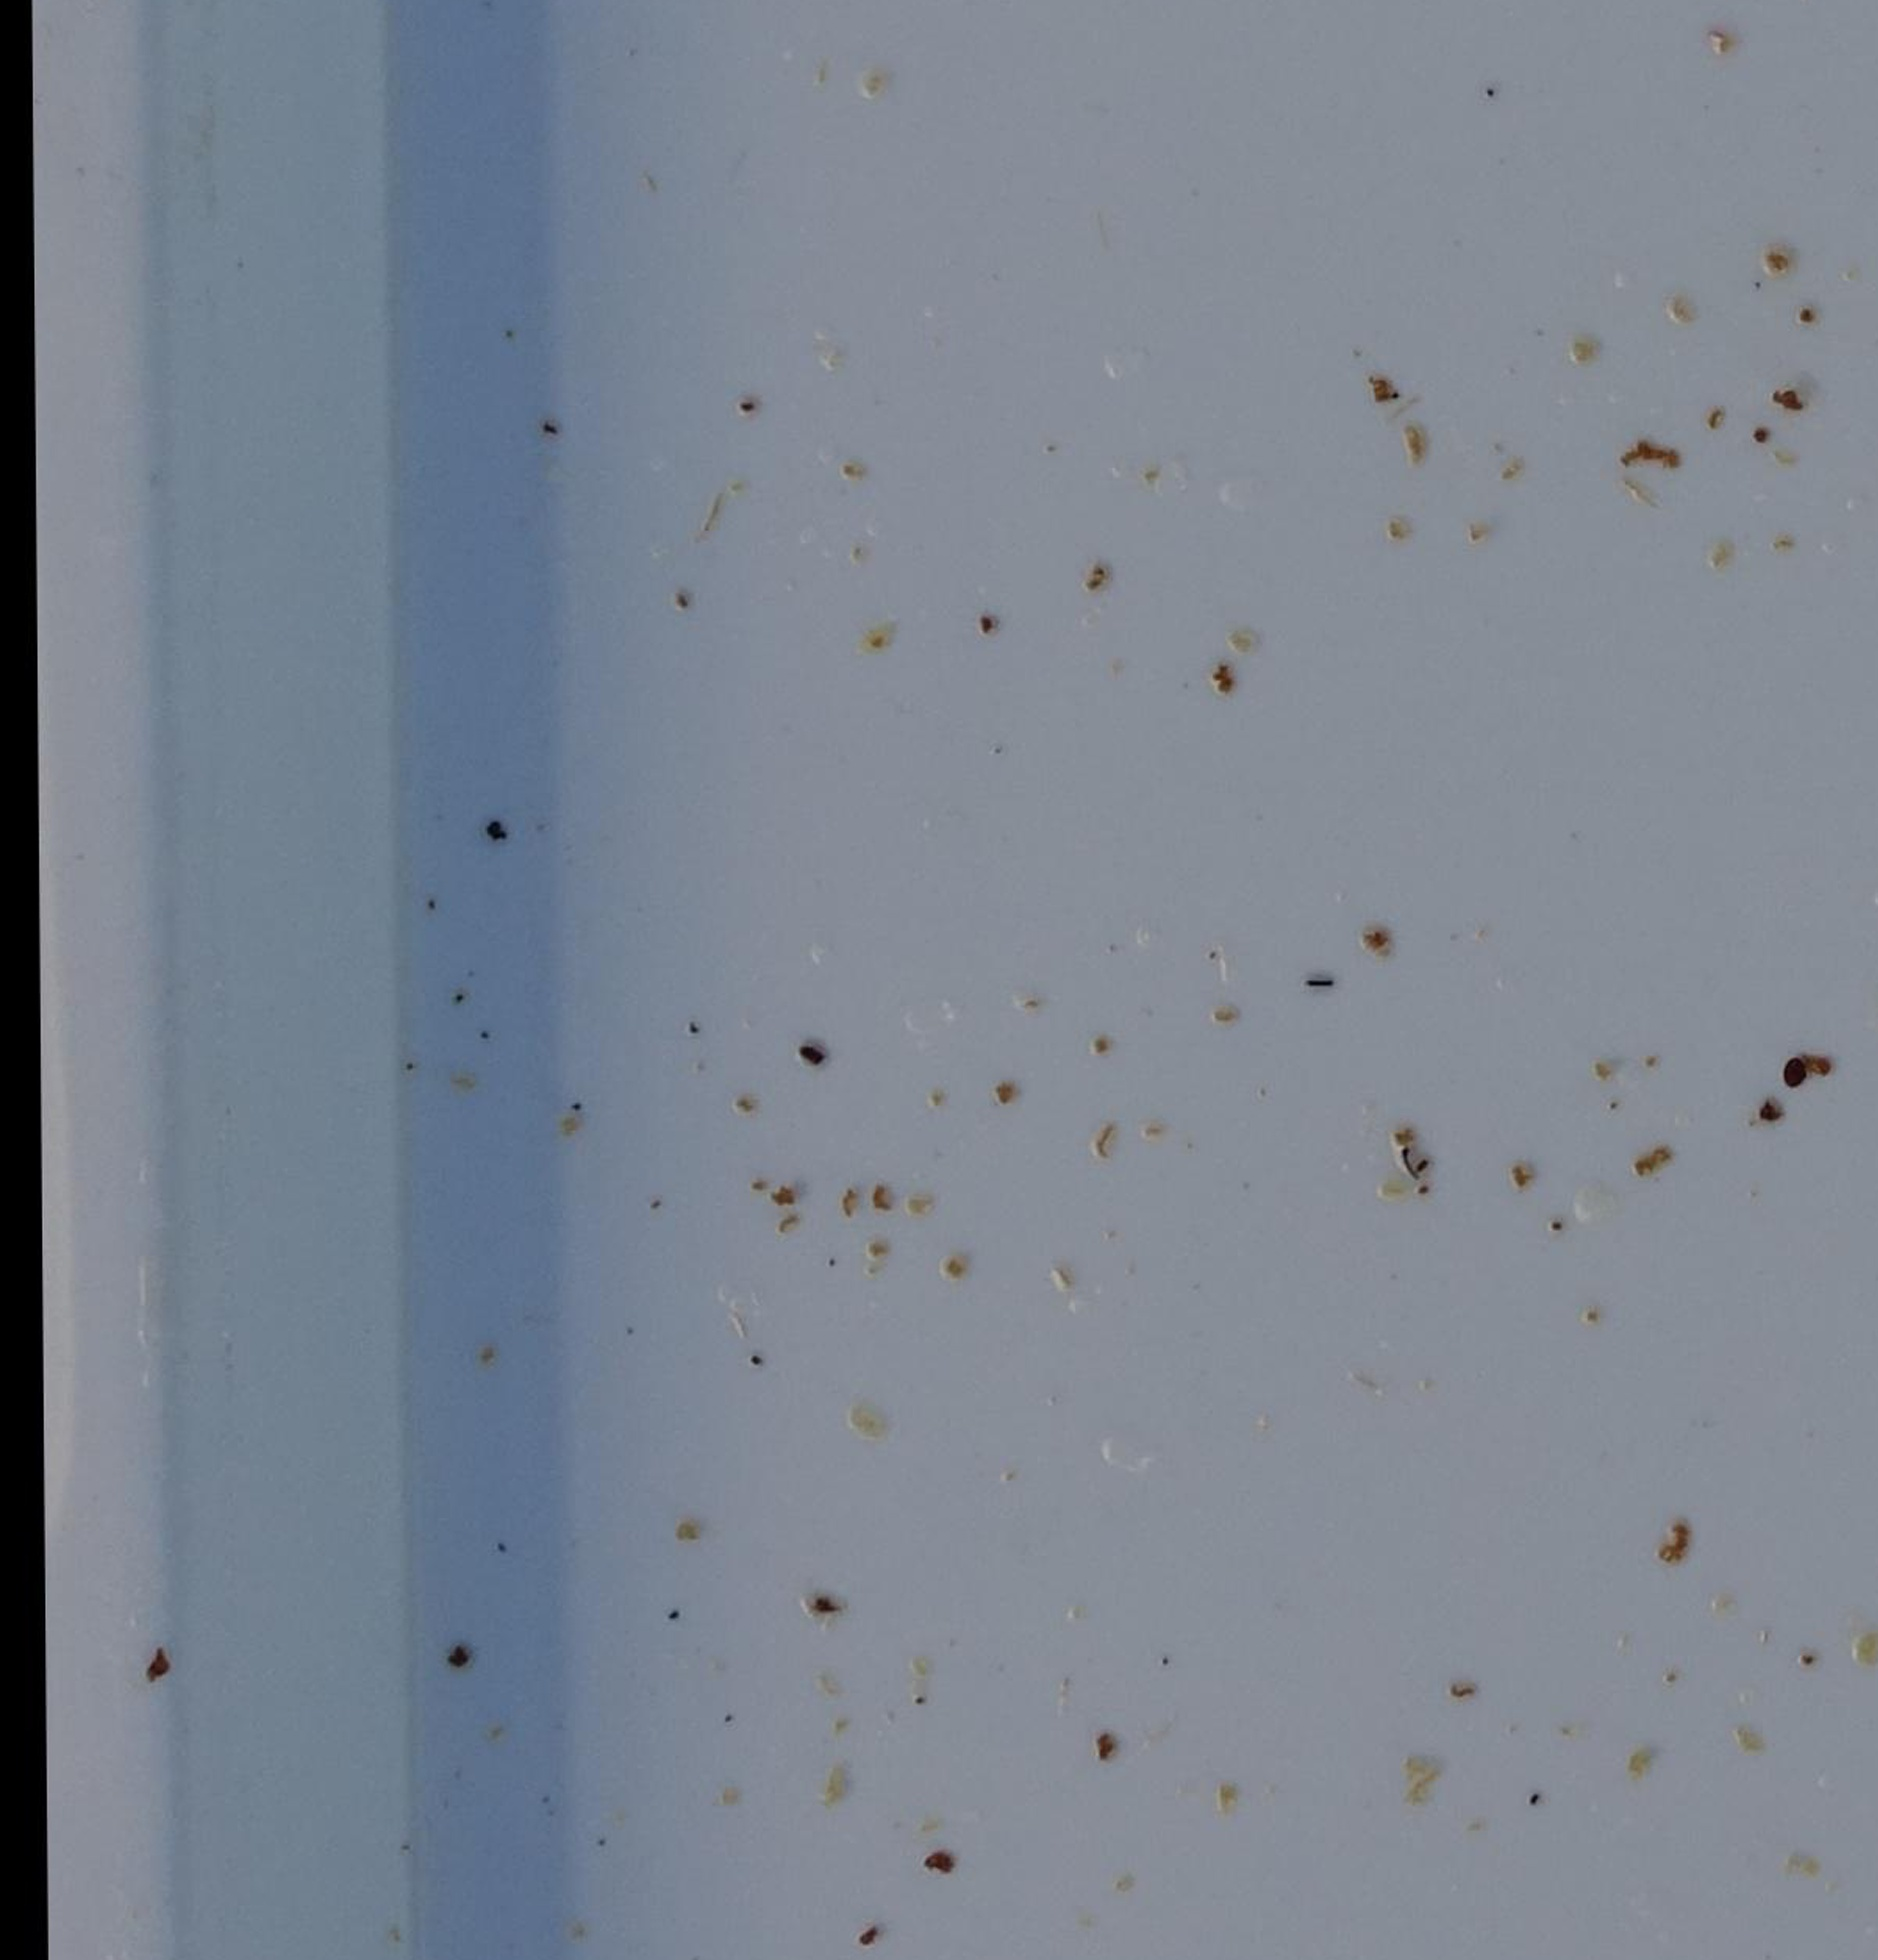Varroa: (1785, 1066, 1804, 1088)
